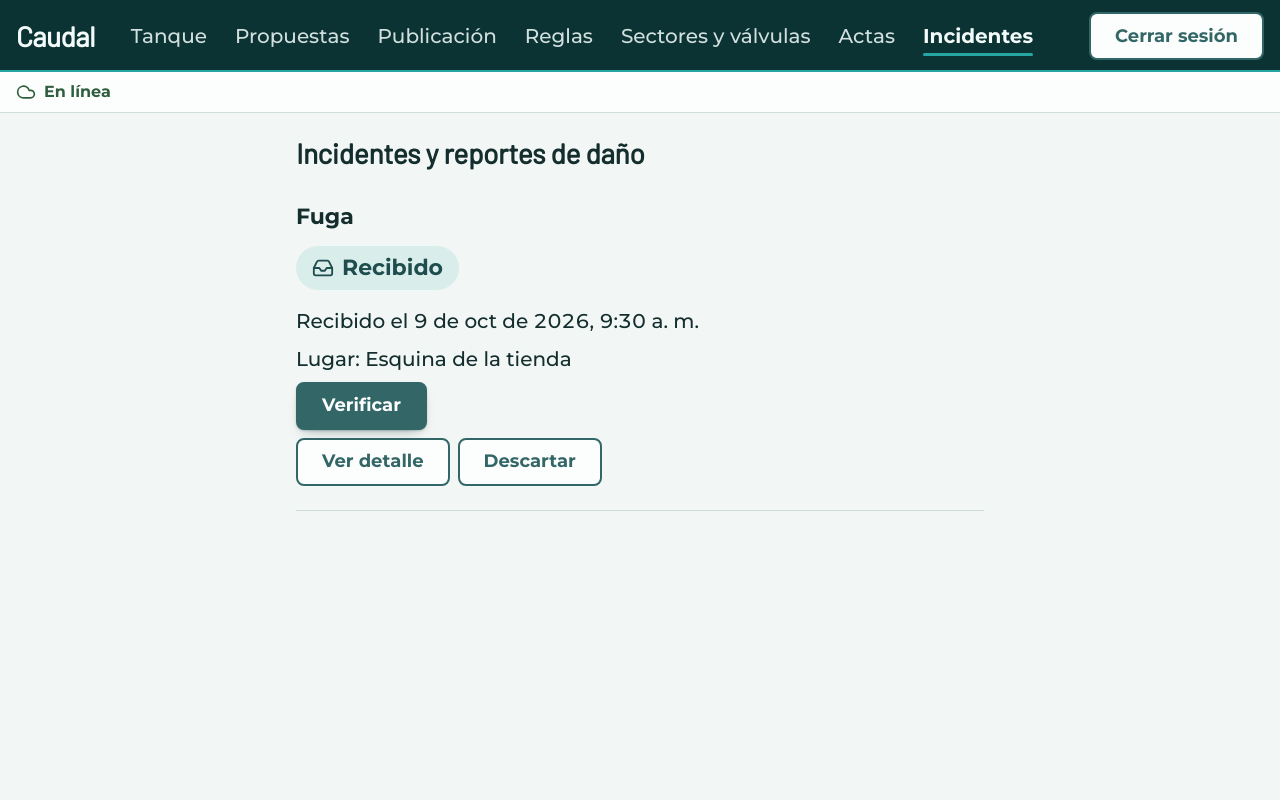
IncidentsPage (S21, board) › asks for a note before dismissing, and sends it with the change
Click the button "Descartar" at (530, 462), box [458,438,602,486]
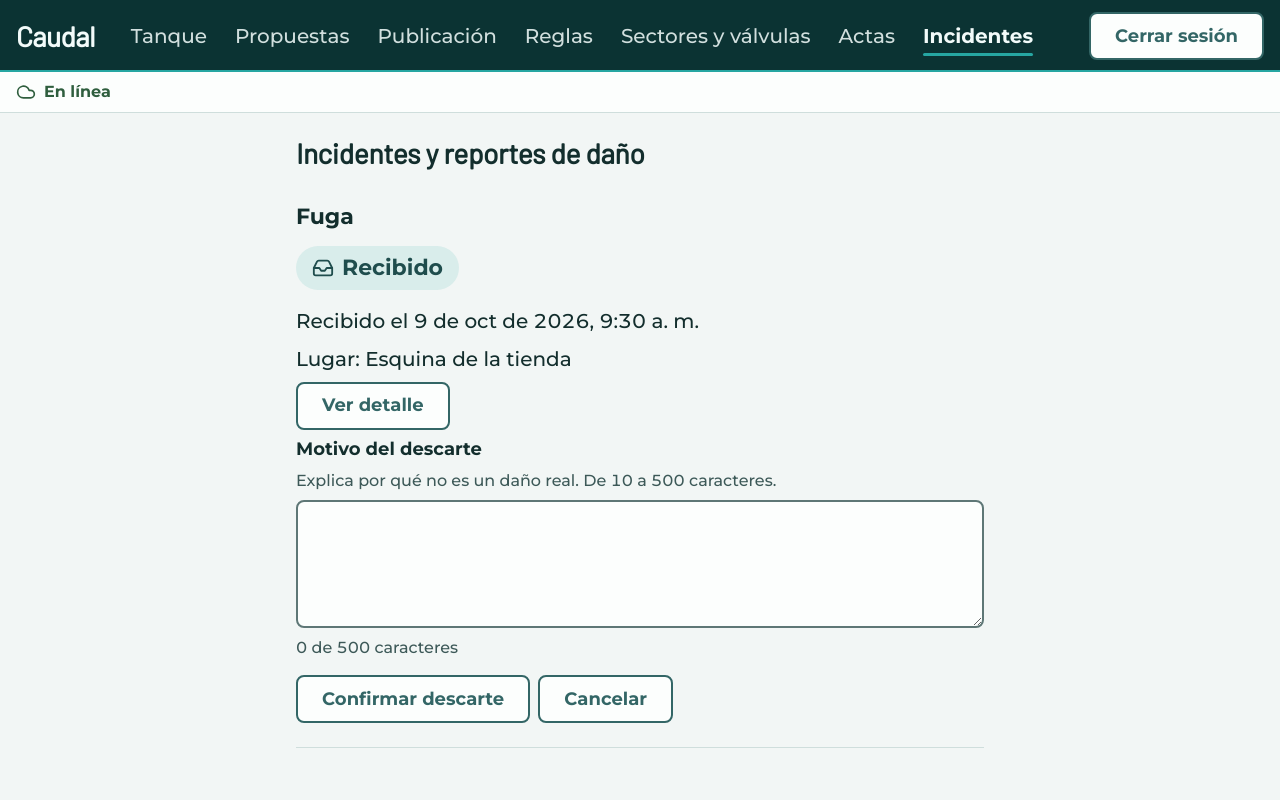
Click the button "Confirmar descarte" at (413, 699), box [296,675,530,723]
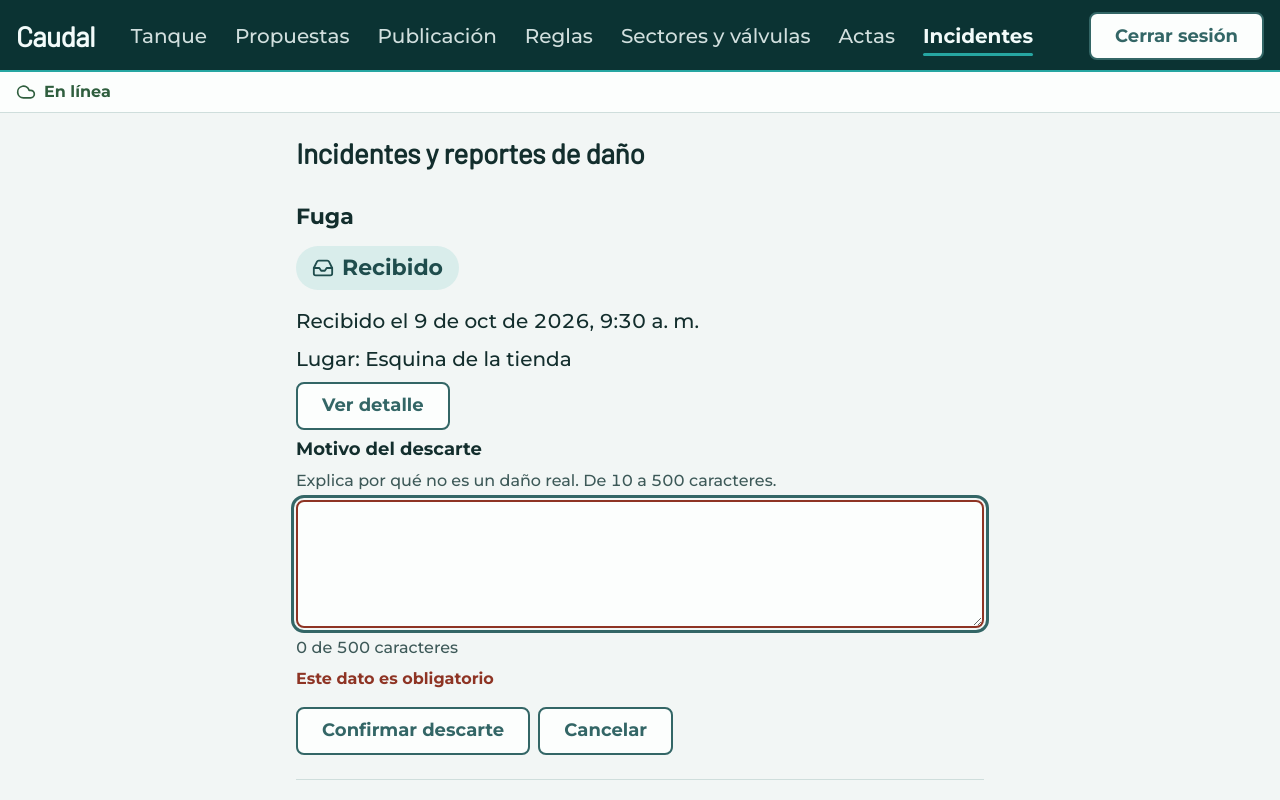
Result: the text "Este dato es obligatorio" is shown at [296,669,494,688]
Type "Se revisó en campo: la caída fue por la lluvia, no por fuga." into the text box labelled "Motivo del descarte" at (640, 564), box [296,500,984,628]
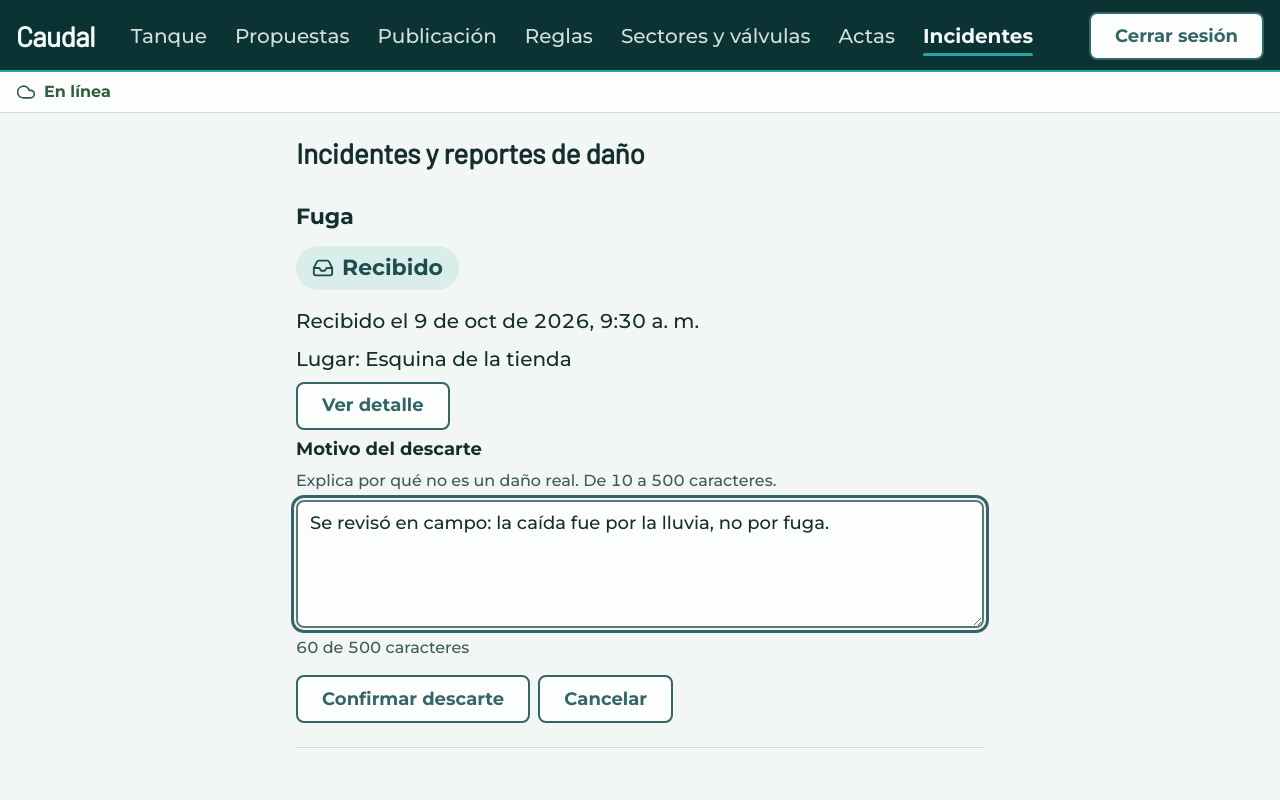
Click the button "Confirmar descarte" at (413, 699), box [296,675,530,723]
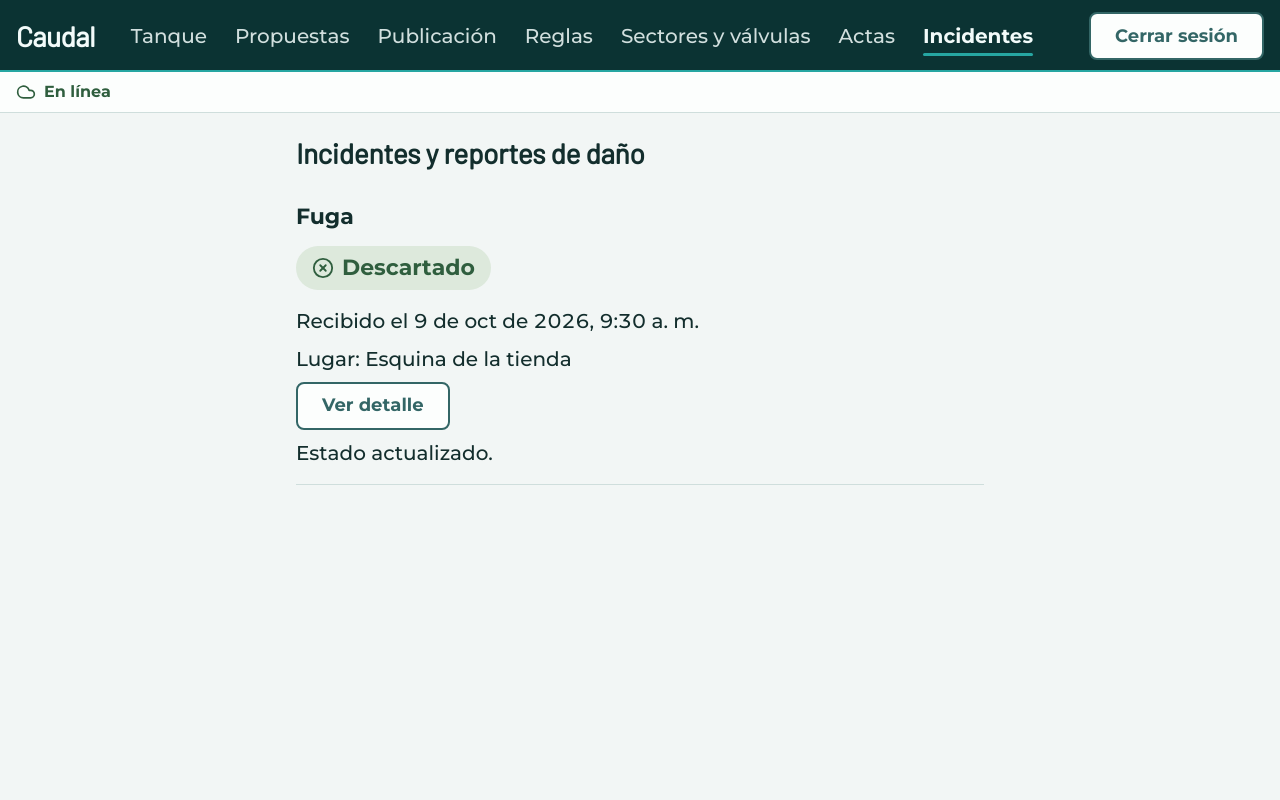
Expected: the button "Descartar" is not shown
Result: the text "Descartado" is shown at [342,254,475,282]
